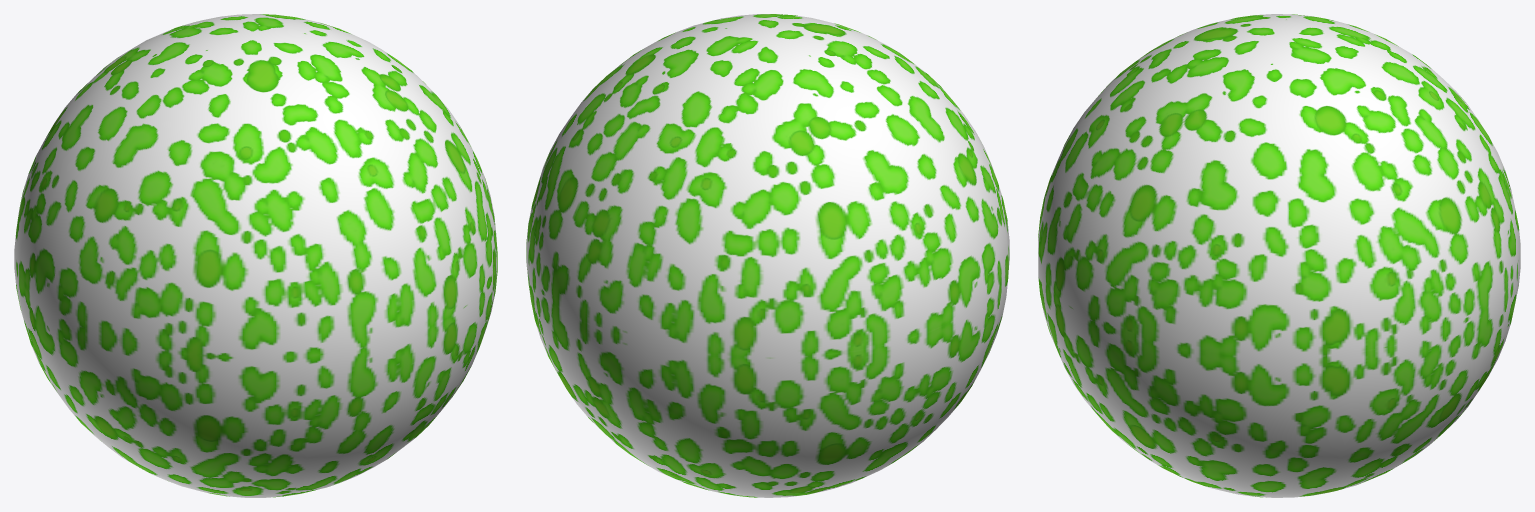
File: Batik_Green.fbx
3 views of the same model, side by side, from view 1: azimuth 30°, elevation 25°; view 2: azimuth 150°, elevation 25°; view 3: azimuth 270°, elevation 25° (orthographic).
Parts seen in each view (by area): view 1: BATIK_GREEN; view 2: BATIK_GREEN; view 3: BATIK_GREEN.
Part boxes in pixels (x1,y1,x2,y2): BATIK_GREEN: [14, 14, 497, 497]; BATIK_GREEN: [526, 14, 1009, 497]; BATIK_GREEN: [1038, 14, 1520, 497].
Size of the model in its own units: 200 by 200 by 199.
1 material, 1 textured.
